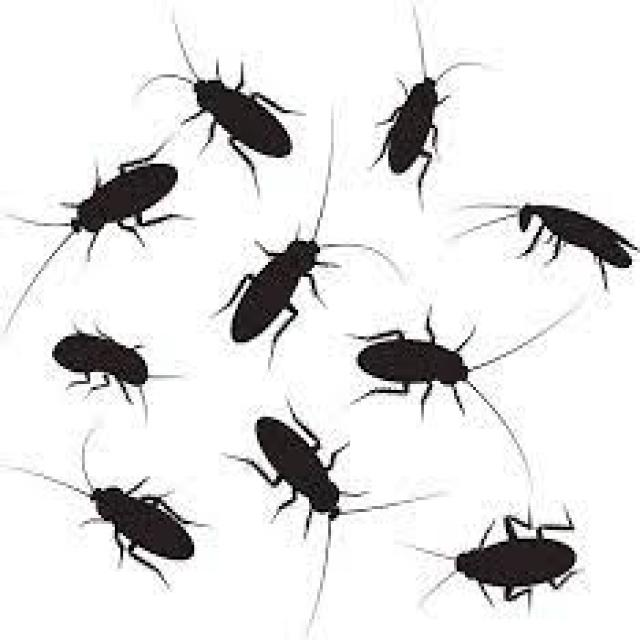Cockroach: (196, 361, 408, 569), (127, 10, 325, 213), (36, 432, 236, 617), (206, 165, 356, 394), (346, 275, 502, 456), (460, 156, 640, 310), (351, 20, 485, 218), (400, 501, 620, 614), (20, 140, 218, 258), (25, 286, 185, 425)
